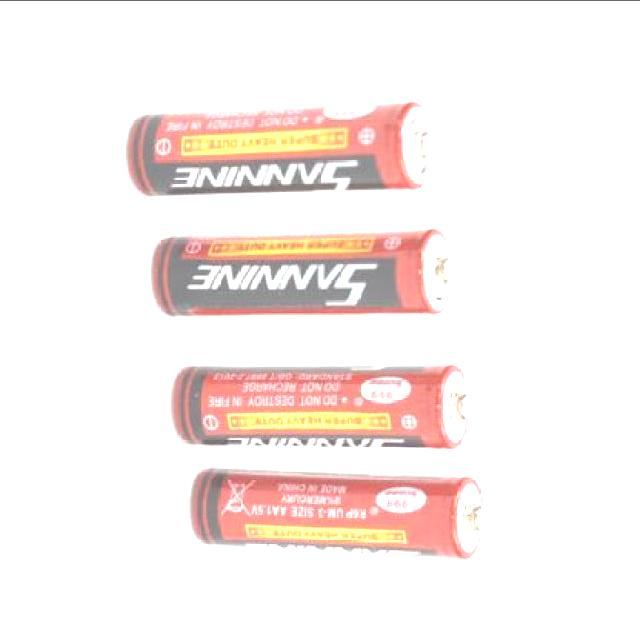AA: (126, 95, 440, 203), (185, 455, 490, 564), (165, 355, 474, 455), (145, 229, 458, 323)
